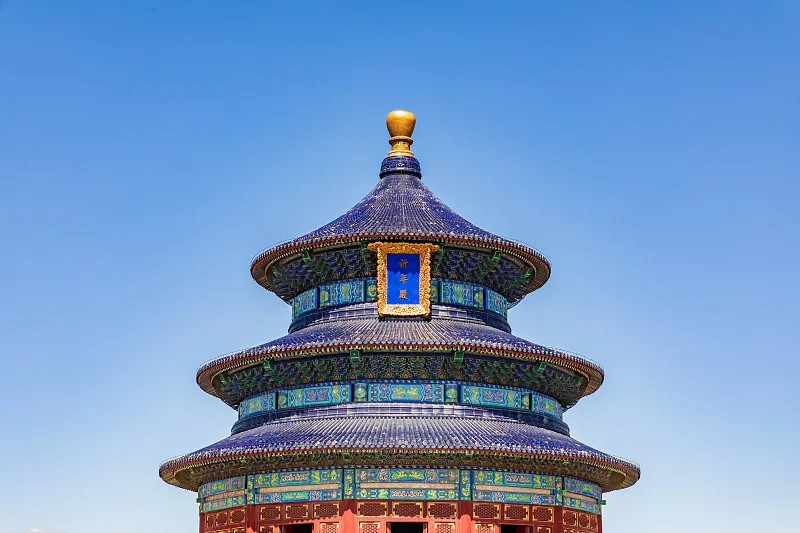Heaven: (158, 108, 643, 533)
